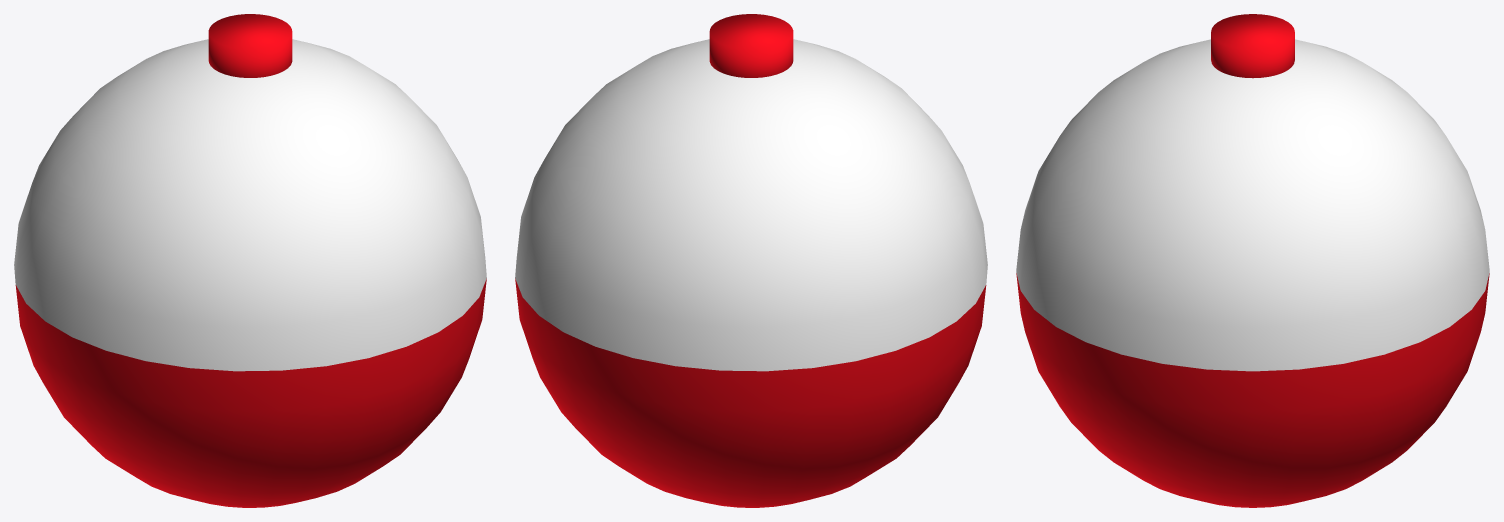
File: newbobber.fbx
3 renders of one model, left to right at view 1: azimuth 30°, elevation 25°; view 2: azimuth 150°, elevation 25°; view 3: azimuth 270°, elevation 25°, orthographic.
Visible parts, largest first — view 1: Sphere; view 2: Sphere; view 3: Sphere.
Boxes of the visible parts, x1=… form: Sphere: x1=14, y1=14, x2=486, y2=507; Sphere: x1=515, y1=14, x2=987, y2=507; Sphere: x1=1016, y1=14, x2=1489, y2=507.
Bounding box in the file's own units: 200 × 212 × 200.
